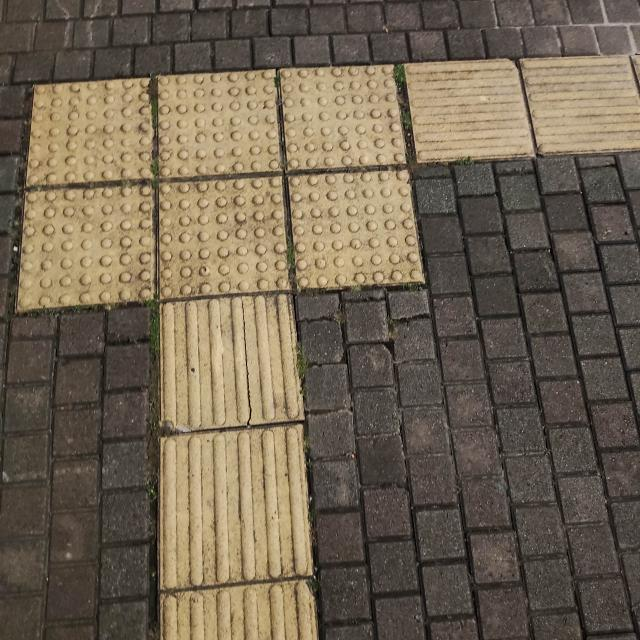kanan: (89, 39, 593, 373)
